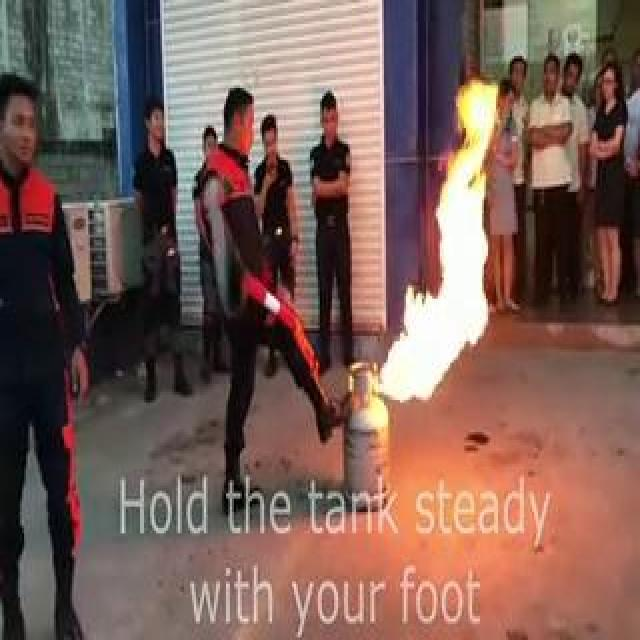Smoke: (364, 165, 480, 403)
